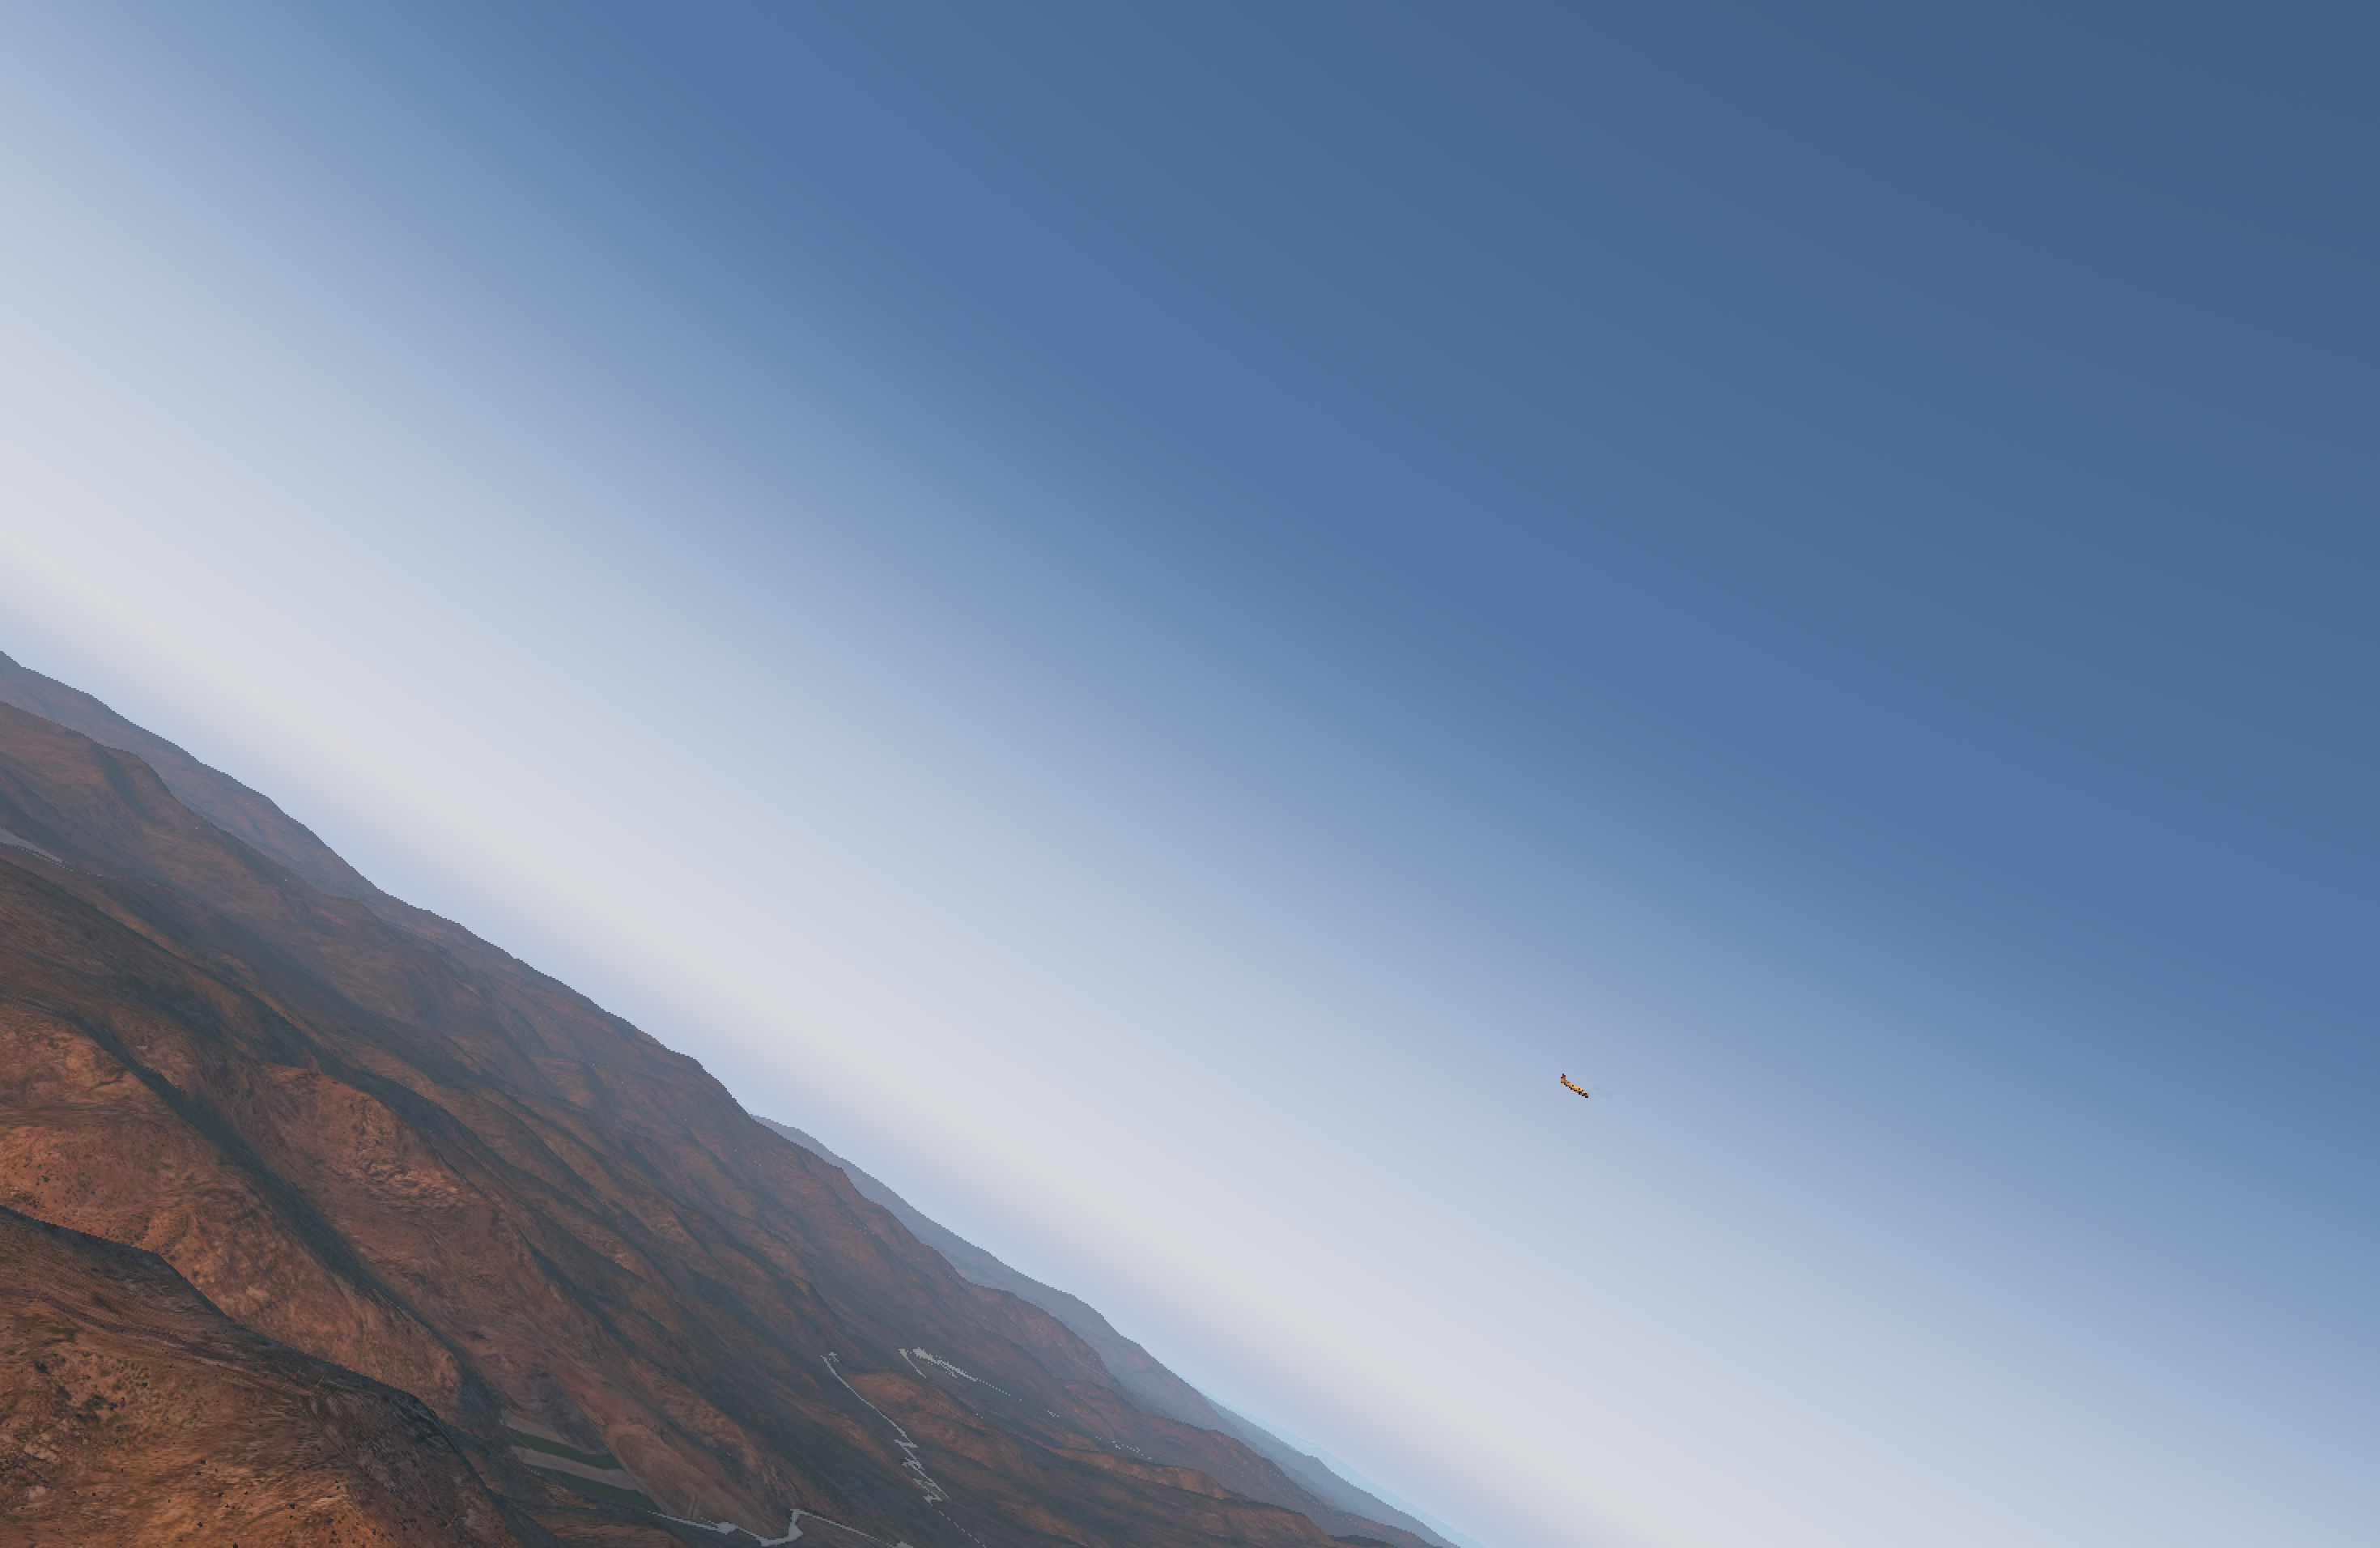aircraft: (1553, 1083, 1605, 1102)
